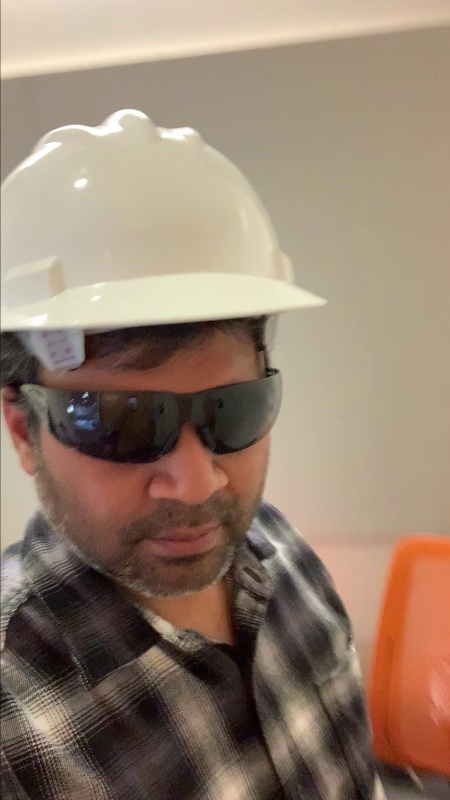glasses: (38, 383, 290, 453)
helmet: (8, 105, 314, 320)
